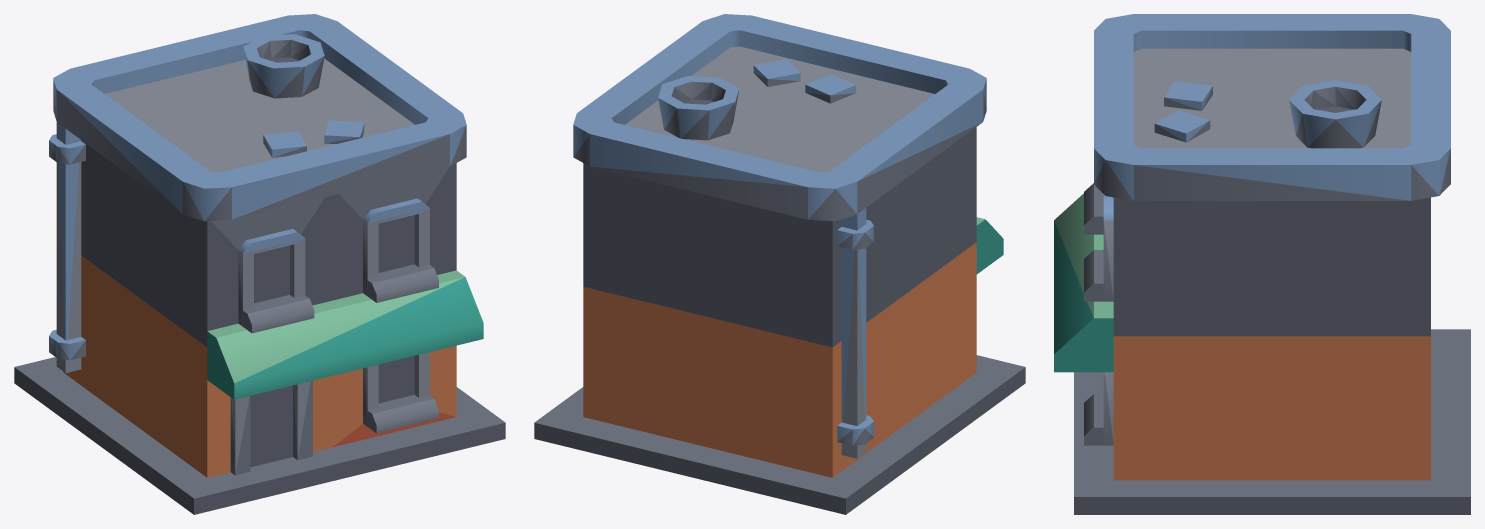
Rendered from building-small-d.glb.
3 views of the same model, side by side, from view 1: azimuth 30°, elevation 25°; view 2: azimuth 150°, elevation 25°; view 3: azimuth 270°, elevation 25° (orthographic). The views are drawn at different scales.
Visible parts, largest first — view 1: building-small-d; view 2: building-small-d; view 3: building-small-d.
Boxes of the visible parts, box(x1,y1,x2,y2) form: building-small-d: box(14, 14, 505, 514); building-small-d: box(534, 14, 1025, 514); building-small-d: box(1054, 14, 1470, 514).
Size of the model in its own units: 12 by 12 by 12.6.
